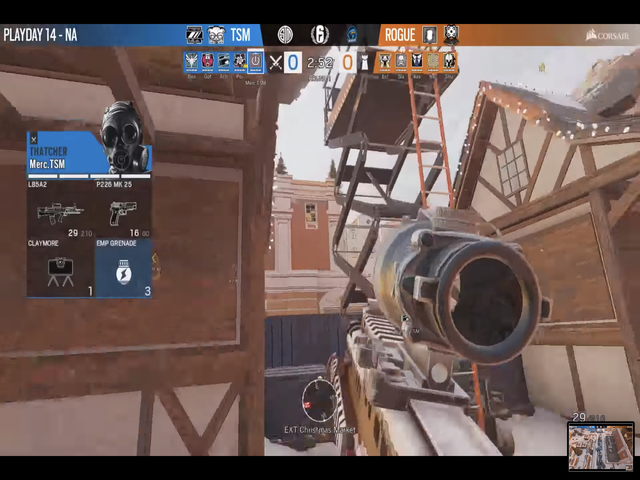0_blue: (283, 51, 303, 71)
